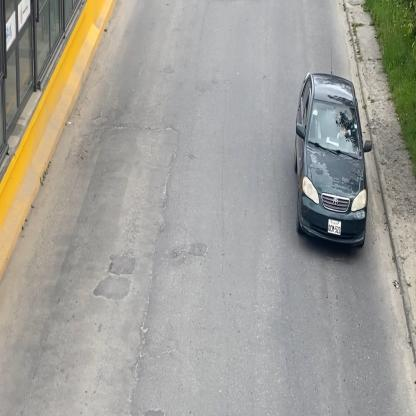Placa: (328, 218, 343, 238)
